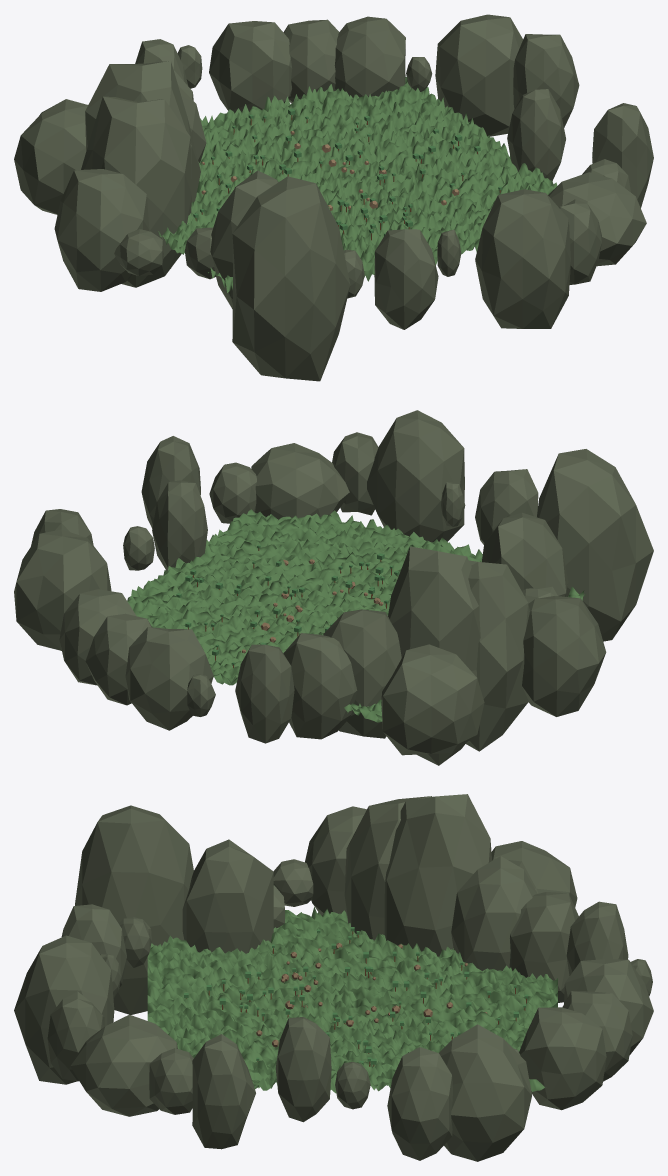
File: minecraft.gltf
3 renders of one model, top to bottom at view 1: azimuth 30°, elevation 25°; view 2: azimuth 150°, elevation 25°; view 3: azimuth 270°, elevation 25°, orthographic. The views are drawn at different scales.
Bounding box in the file's own units: 381 × 139 × 374.
